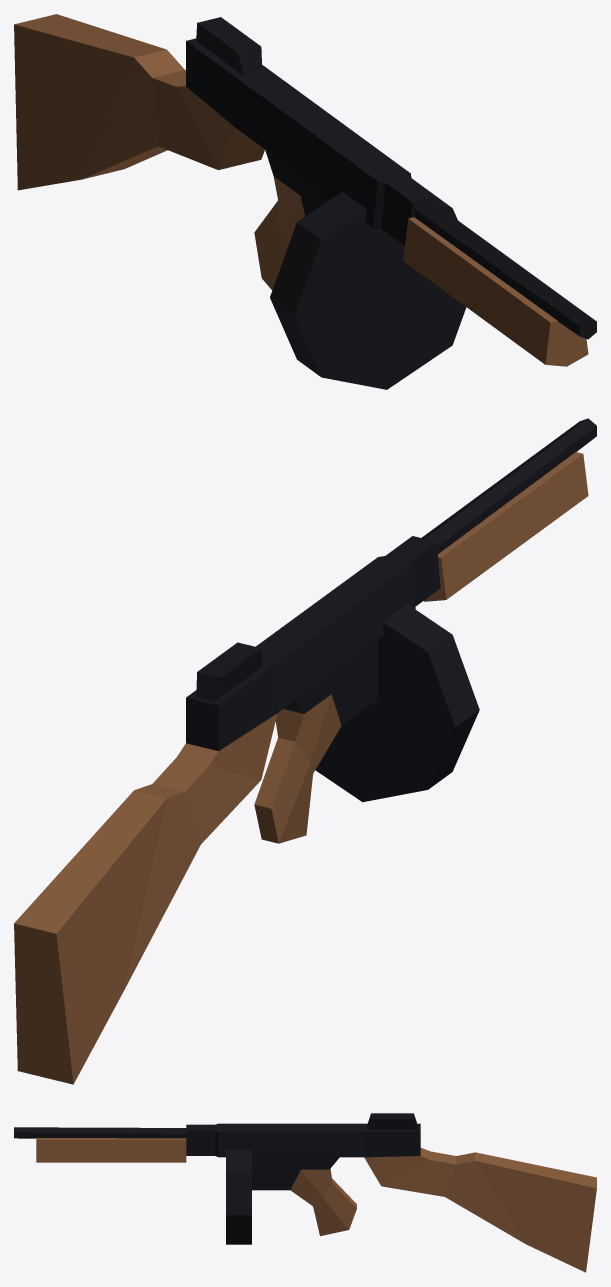
The model's file is weapons-thompson.glb.
3 views of the same model, one above another, from view 1: azimuth 30°, elevation 25°; view 2: azimuth 150°, elevation 25°; view 3: azimuth 270°, elevation 25° (orthographic). The views are drawn at different scales.
Parts seen in each view (by area): view 1: thompson; view 2: thompson; view 3: thompson.
Boxes of the visible parts, x1,y1,x2,y2 form: thompson: (14, 14, 596, 389); thompson: (14, 418, 596, 1084); thompson: (14, 1113, 596, 1272).
Size of the model in its own units: 0.1598 by 0.2332 by 0.825.
